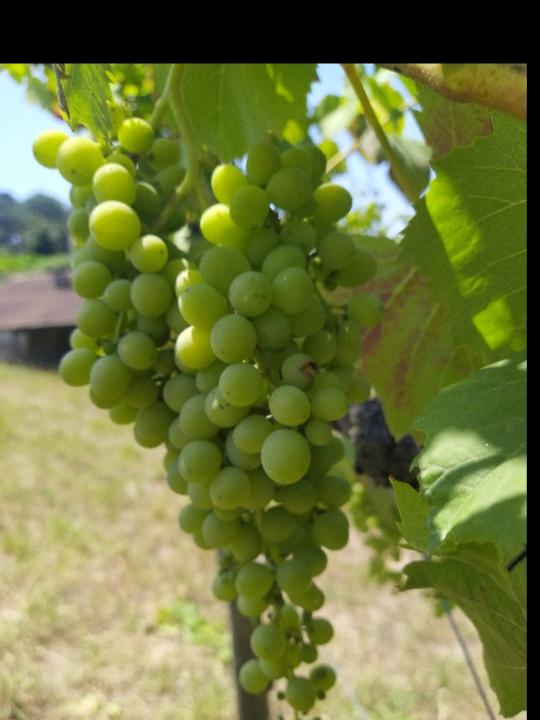grape: (29, 116, 391, 720)
